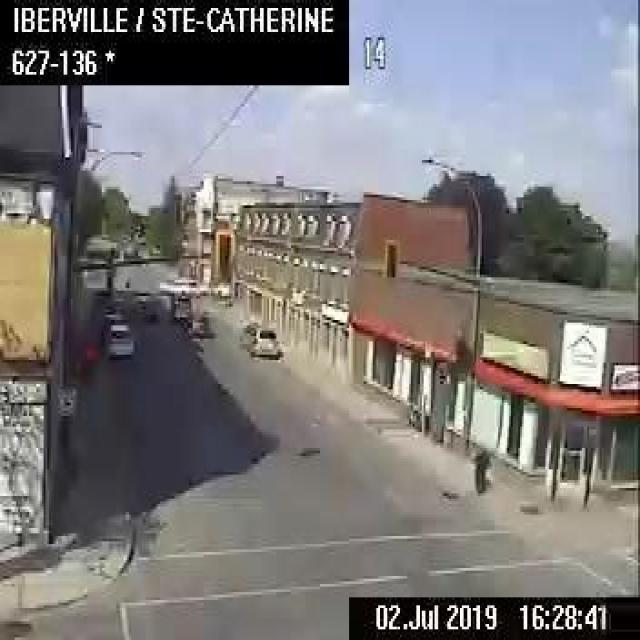pedestrian: (472, 446, 490, 494)
vehicle: (244, 317, 278, 355), (102, 322, 133, 357), (186, 309, 208, 336), (172, 289, 190, 319)
